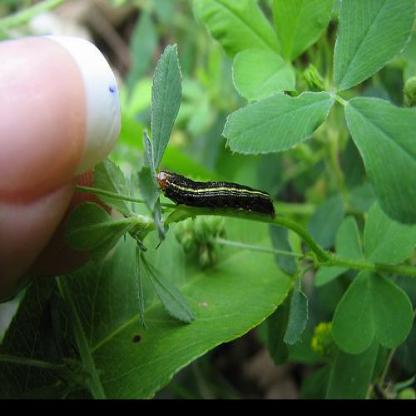armyworm: (156, 165, 281, 234)
